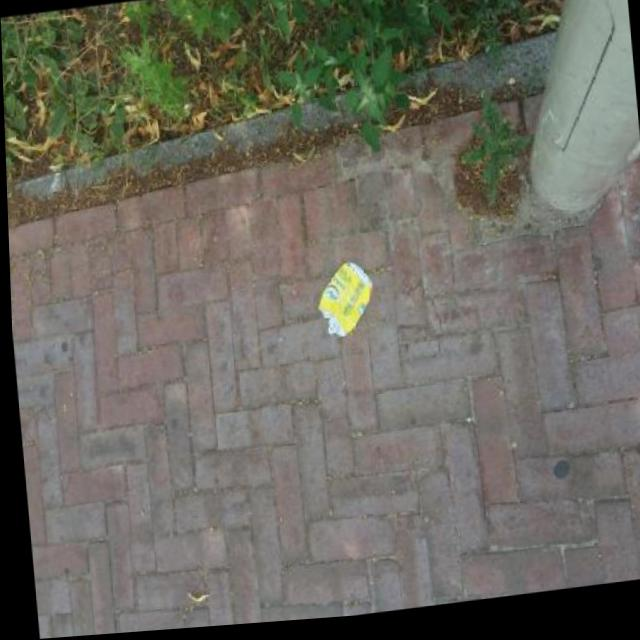metal: (314, 257, 376, 339)
